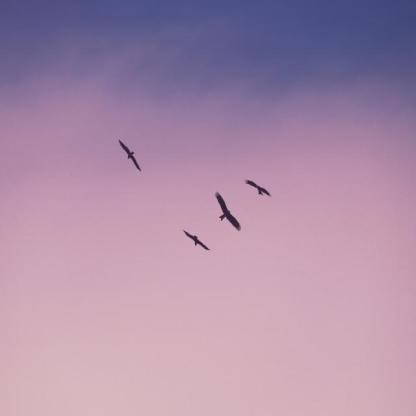bird: (211, 192, 245, 234), (116, 137, 144, 180), (237, 176, 274, 202), (181, 225, 213, 253)
